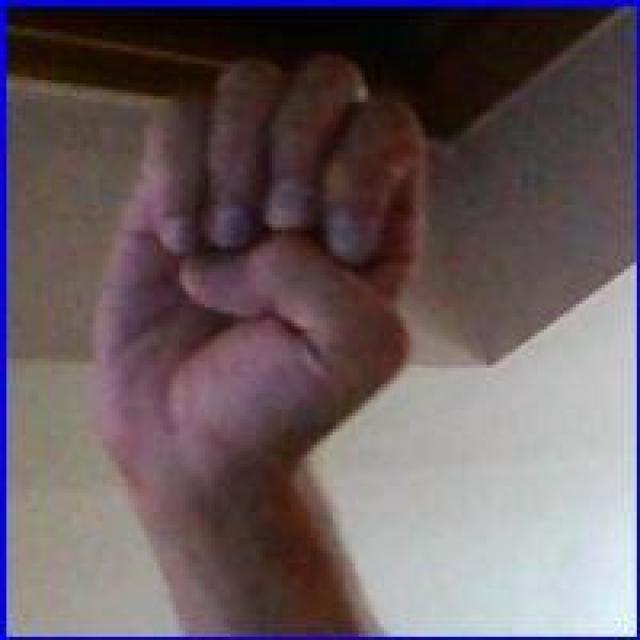E: (81, 43, 436, 565)
